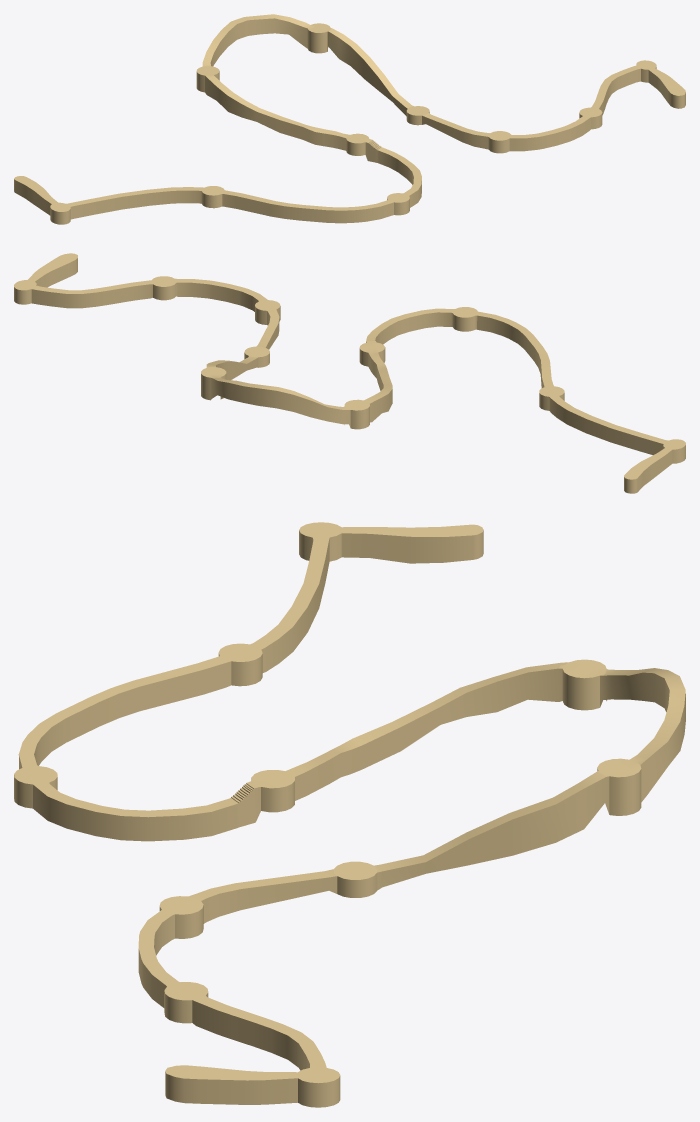
File: pathExpanded.glb
The picture shows the model from 3 angles, top to bottom: view 1: azimuth 30°, elevation 25°; view 2: azimuth 150°, elevation 25°; view 3: azimuth 270°, elevation 25°; orthographic projection. The views are drawn at different scales.
Parts seen in each view (by area): view 1: path; view 2: path; view 3: path.
Part boxes in pixels (left/top/right/bottom): path: left=14, top=14, right=685, bottom=224; path: left=14, top=253, right=685, bottom=493; path: left=14, top=522, right=685, bottom=1107.
Size of the model in its own units: 289 by 30.59 by 146.
